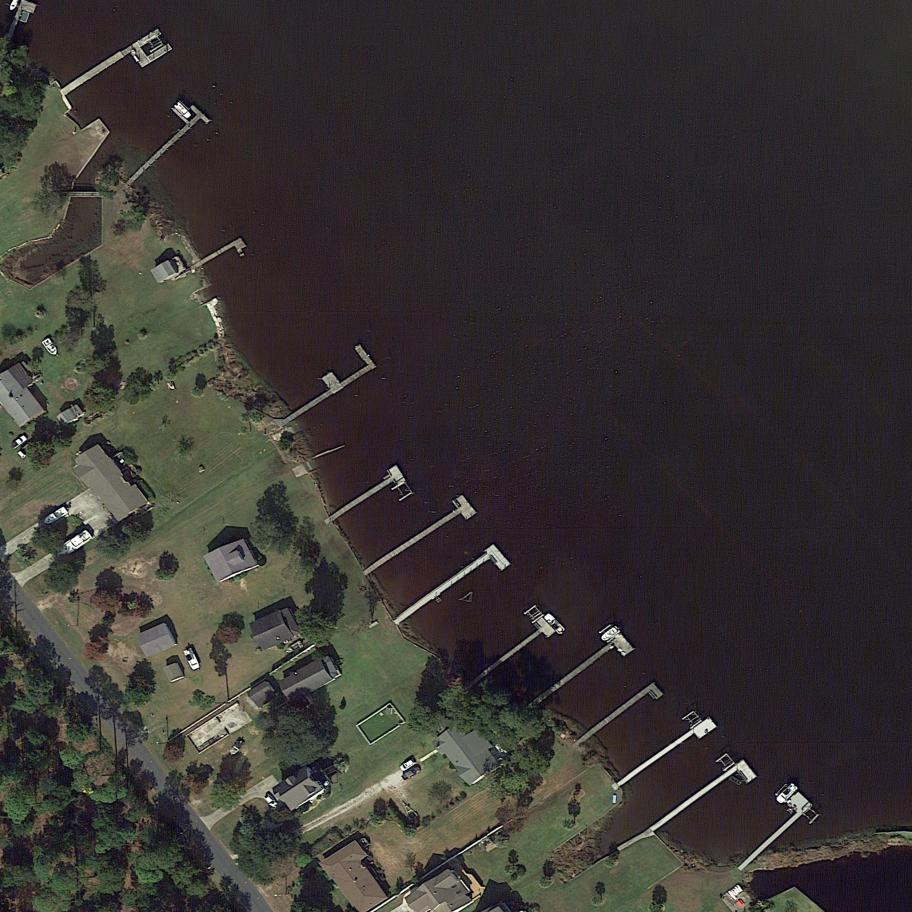ship: (52, 527, 95, 562), (775, 782, 801, 807), (543, 612, 567, 636), (42, 506, 69, 527), (183, 647, 202, 671), (40, 336, 60, 358), (283, 639, 306, 658), (228, 738, 246, 759), (599, 625, 620, 643), (174, 101, 193, 120)
small-vehicle: (400, 763, 423, 781), (263, 791, 281, 811), (10, 434, 29, 452), (398, 757, 418, 773)
